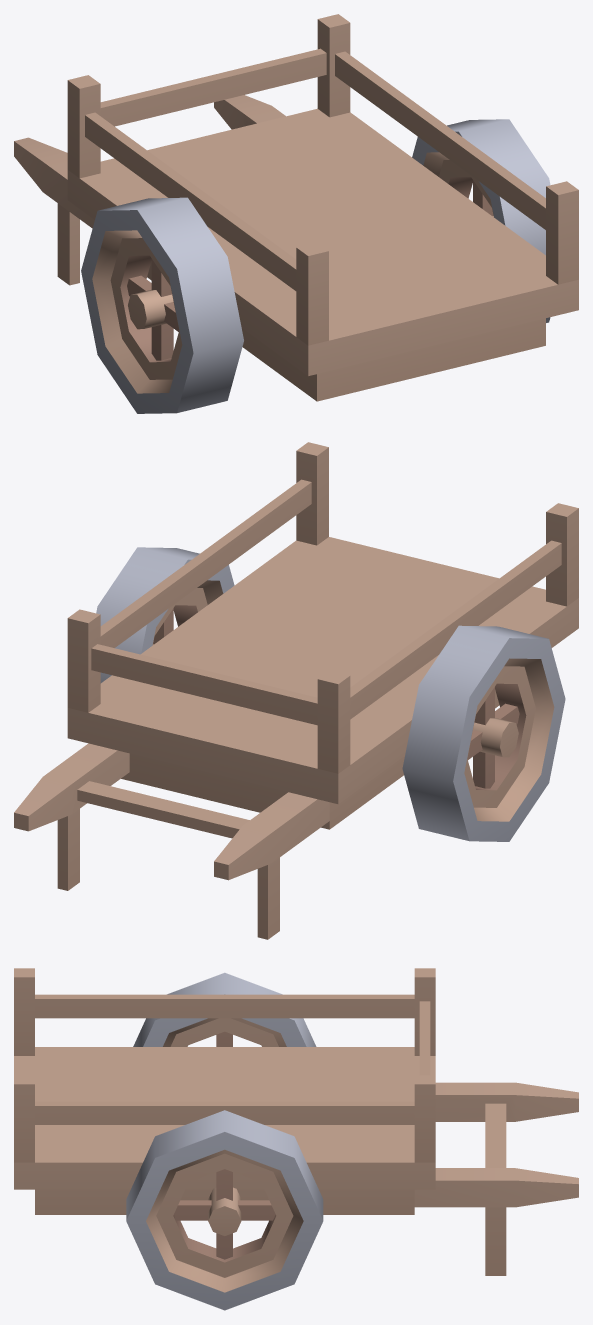
The model's file is cart.glb.
The picture shows the model from 3 angles, top to bottom: view 1: azimuth 30°, elevation 25°; view 2: azimuth 150°, elevation 25°; view 3: azimuth 270°, elevation 25°; orthographic projection. The views are drawn at different scales.
Parts seen in each view (by area): view 1: cart; view 2: cart; view 3: cart.
Boxes of the visible parts, left/top/right/bottom form: cart: left=14, top=14, right=578, bottom=413; cart: left=14, top=442, right=578, bottom=939; cart: left=14, top=968, right=578, bottom=1310.
Bounding box in the file's own units: 0.893 × 0.5355 × 1.34.
